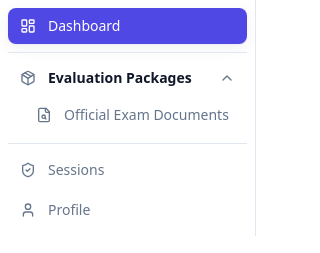
Sidebar › expands and collapses a group on click
Expected: the link "Official Exam Documents" is shown, [36,104,229,124]
Click the button "Evaluation Packages" at (128, 78), box [8,61,247,94]
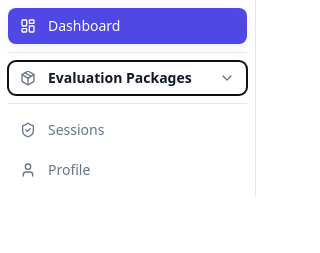
Result: the button "Evaluation Packages" is collapsed at [8,61,247,94]
